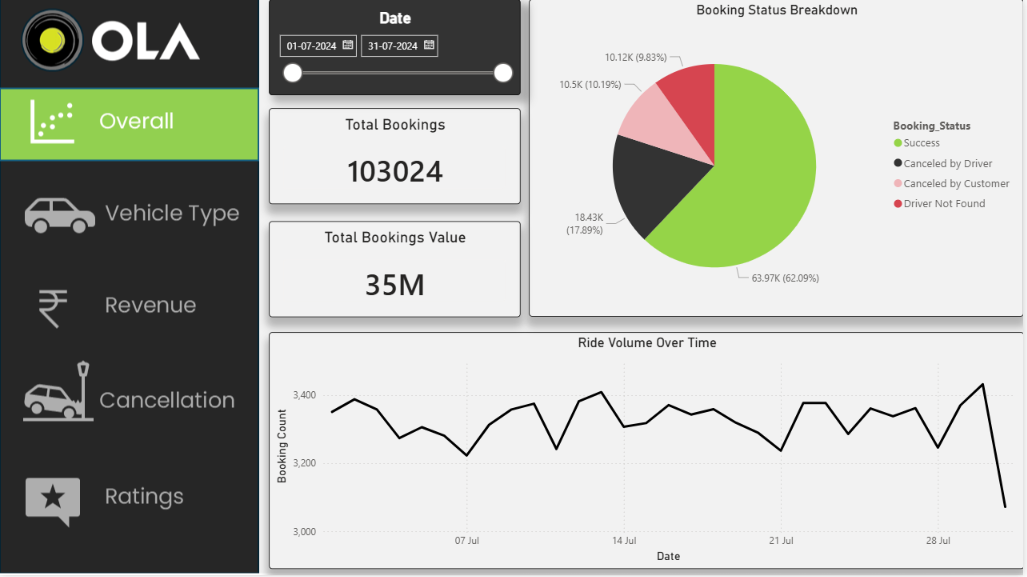

The page's visual inventory and layout, read from the dashboard file:
{"tool":"powerbi","page":{"name":"Overall","canvas":[1280,720],"ordinal":0},"visuals":[{"type":"actionButton","box":[0,219.6,324.5,91.7],"z":0},{"type":"actionButton","box":[0,448.8,324.5,91.7],"z":1000},{"type":"actionButton","box":[0,336.6,324.5,91.7],"z":2000},{"type":"actionButton","box":[1.2,575.5,324.5,91.7],"z":3000},{"type":"lineChart","title":"Ride Volume Over Time","fields":{"Y":["CountNonNull(July.Booking_ID)"],"Category":["July.Date"]},"box":[335.7,415.7,944.3,295.7],"z":4000},{"type":"pieChart","title":"Booking Status Breakdown","fields":{"Category":["July.Booking_Status"],"Y":["CountNonNull(July.Booking_ID)"]},"box":[661.4,0,618.6,397.1],"z":5000},{"type":"slicer","title":"Date","fields":{"Values":["July.Date"]},"box":[335.7,0,314.3,120],"z":6000},{"type":"cardVisual","title":"Total Bookings","fields":{"Data":["CountNonNull(July.Booking_ID)"]},"box":[335.7,135.7,314.3,120],"z":7000},{"type":"cardVisual","title":"Total Bookings Value","fields":{"Data":["Sum(July.Booking_Value)"]},"box":[335.7,277.1,314.3,120],"z":8000}]}

Visuals, with their boxes in screenshot pixels (x1, y1, x2, y2), scaled from the page's 1280x720 canvas onto the 1027x577 screenshot:
actionButton: rect(0, 176, 260, 249)
actionButton: rect(0, 360, 260, 433)
actionButton: rect(0, 270, 260, 343)
actionButton: rect(1, 461, 261, 535)
"Ride Volume Over Time" lineChart: rect(269, 333, 1026, 570)
"Booking Status Breakdown" pieChart: rect(531, 0, 1026, 318)
"Date" slicer: rect(269, 0, 522, 96)
"Total Bookings" cardVisual: rect(269, 109, 522, 205)
"Total Bookings Value" cardVisual: rect(269, 222, 522, 318)
